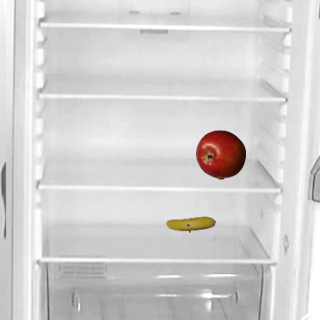Apple Braeburn: (195, 129, 245, 179)
Banana: (165, 199, 215, 249)
